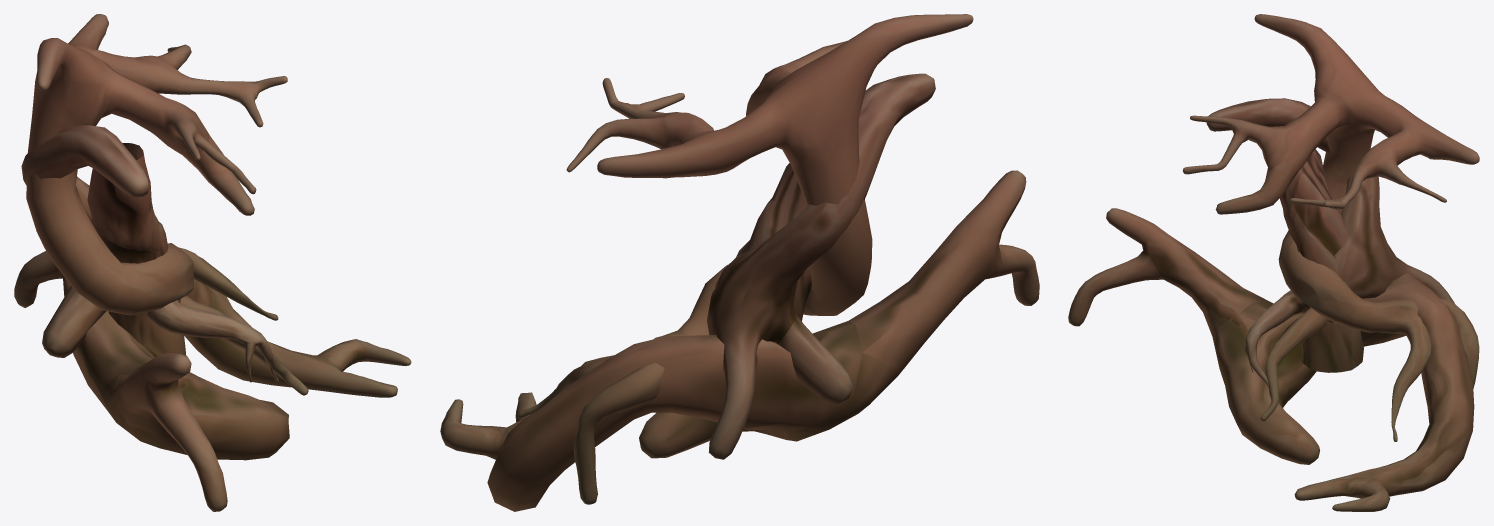
File: Grosse_Racine.fbx
The picture shows the model from 3 angles, left to right: view 1: azimuth 30°, elevation 25°; view 2: azimuth 150°, elevation 25°; view 3: azimuth 270°, elevation 25°; orthographic projection. The views are drawn at different scales.
Parts seen in each view (by area): view 1: Plane.6216, Plane.004, Plane.6218, Cylinder.002; view 2: Plane.004, Plane.6216, Plane.6218, Cylinder.002; view 3: Plane.6216, Plane.004, Plane.6218, Cylinder.002.
Part boxes in pixels (<box>): Plane.6216: <box>26,14,308,395</box>; Plane.004: <box>62,275,411,511</box>; Plane.6218: <box>14,124,279,382</box>; Cylinder.002: <box>87,143,186,355</box>; Plane.004: <box>440,170,1039,511</box>; Plane.6216: <box>517,14,973,504</box>; Plane.6218: <box>707,73,935,459</box>; Cylinder.002: <box>736,163,811,321</box>; Plane.6216: <box>1183,14,1479,441</box>; Plane.004: <box>1068,208,1474,511</box>; Plane.6218: <box>1206,98,1454,388</box>; Cylinder.002: <box>1279,149,1363,372</box>.
Size of the model in its own units: 16926 by 17440 by 18002.
